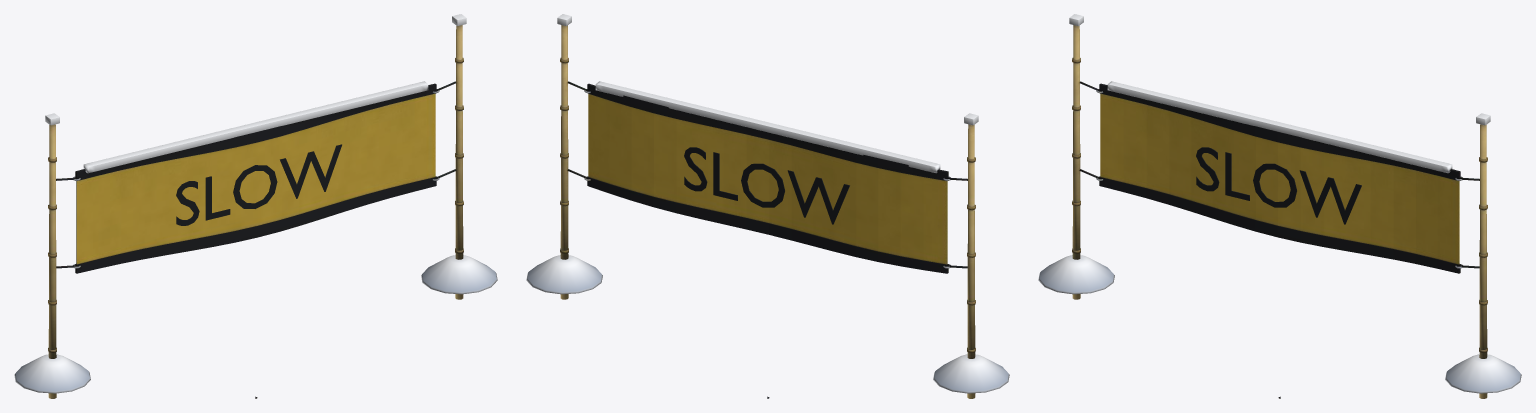
File: sign_slow.glb
3 renders of one model, left to right at view 1: azimuth 30°, elevation 25°; view 2: azimuth 150°, elevation 25°; view 3: azimuth 330°, elevation 25°, orthographic.
Parts seen in each view (by area): view 1: sign_slow, sign_slow_snow, sign_slow_flat; view 2: sign_slow, sign_slow_snow, sign_slow_flat; view 3: sign_slow, sign_slow_snow, sign_slow_flat.
Boxes of the visible parts, left/top/right/bottom form: sign_slow: left=48, top=25, right=463, bottom=398; sign_slow_snow: left=14, top=14, right=497, bottom=393; sign_slow_flat: left=176, top=144, right=341, bottom=225; sign_slow: left=560, top=25, right=975, bottom=398; sign_slow_snow: left=526, top=14, right=1009, bottom=393; sign_slow_flat: left=684, top=147, right=849, bottom=224; sign_slow: left=1072, top=25, right=1487, bottom=398; sign_slow_snow: left=1038, top=14, right=1521, bottom=393; sign_slow_flat: left=1196, top=147, right=1361, bottom=224.
Size of the model in its own units: 3.95 by 2.65 by 0.5611.
Materials: 3 (1 with a texture image).
